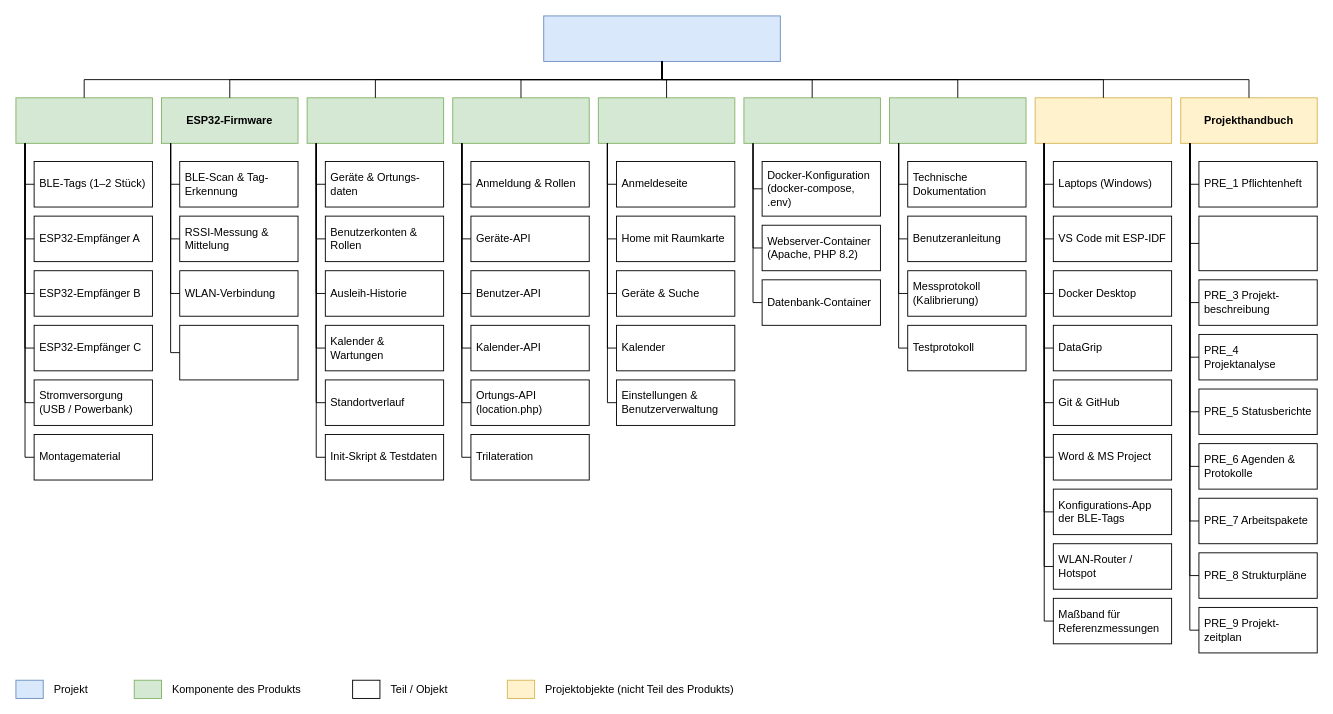
Image size: 1333x714. Some labels were removed from this diagram. Here are the shapes that lost their labels. From the top down, the box of each, then its label:
(543, 15, 780, 61): MedTrack Objektstrukturplan
(15, 97, 152, 143): Ortungs­hardware
(306, 97, 444, 143): Datenbank (PostgreSQL)
(452, 97, 589, 143): Backend (PHP)
(597, 97, 735, 143): Webanwendung
(743, 97, 880, 143): Betriebs­umgebung
(889, 97, 1026, 143): Produkt­dokumentation
(1034, 97, 1172, 143): Tools
(1198, 215, 1317, 271): PRE_2 Kommunikations­verzeichnis
(179, 324, 298, 380): HTTP-Übertragung (JSON, API-Schlüssel)
